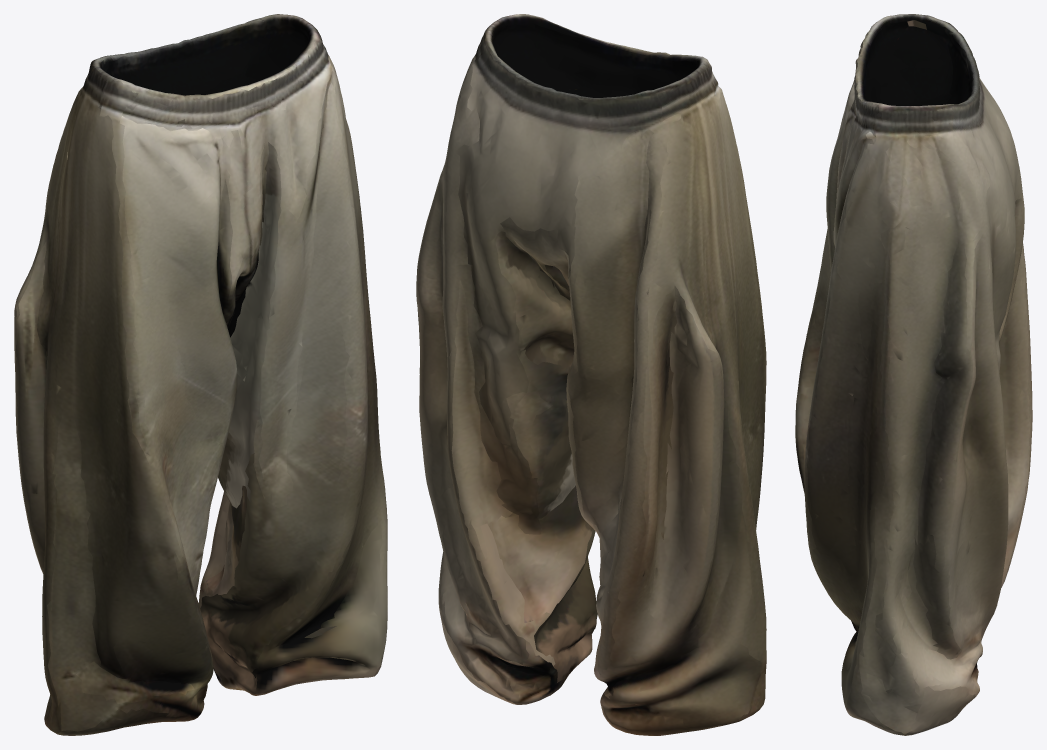
3 renders of one model, left to right at view 1: azimuth 30°, elevation 25°; view 2: azimuth 150°, elevation 25°; view 3: azimuth 270°, elevation 25°, orthographic. The views are drawn at different scales.
Parts seen in each view (by area): view 1: world; view 2: world; view 3: world.
Boxes of the visible parts, x1=… form: world: x1=14, y1=14, x2=387, y2=735; world: x1=416, y1=14, x2=766, y2=735; world: x1=795, y1=14, x2=1032, y2=735.
Size of the model in its own units: 103 by 199 by 69.55.
1 material, 1 textured.
